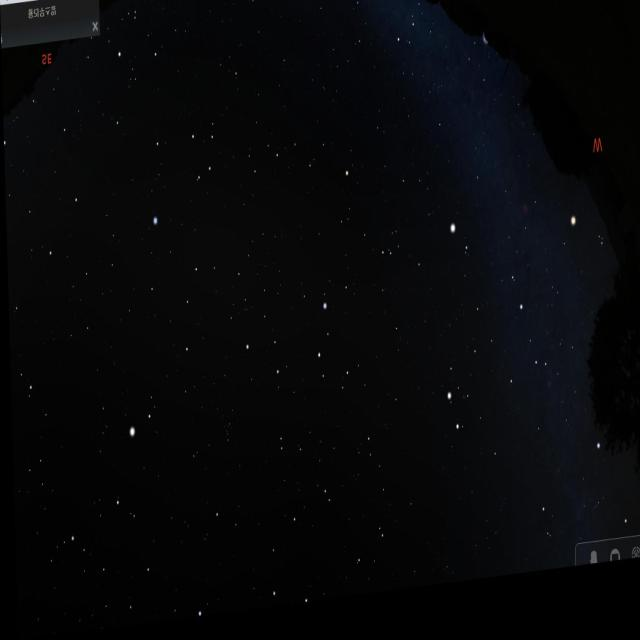bootes: (86, 416, 166, 632)
canis_minor: (441, 226, 474, 285)
gemini: (438, 306, 544, 460)
leo: (239, 291, 356, 426)
